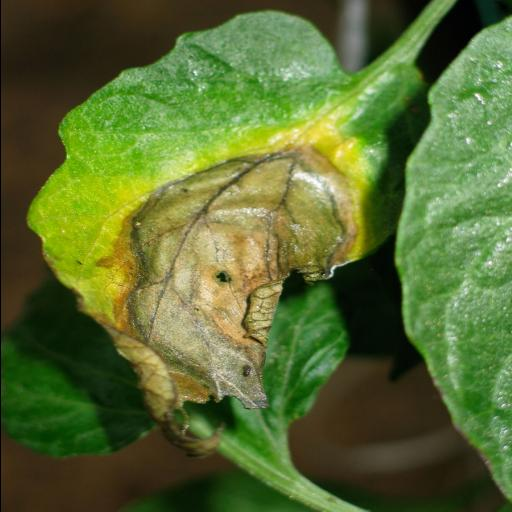Late Blight: (26, 9, 426, 457)
